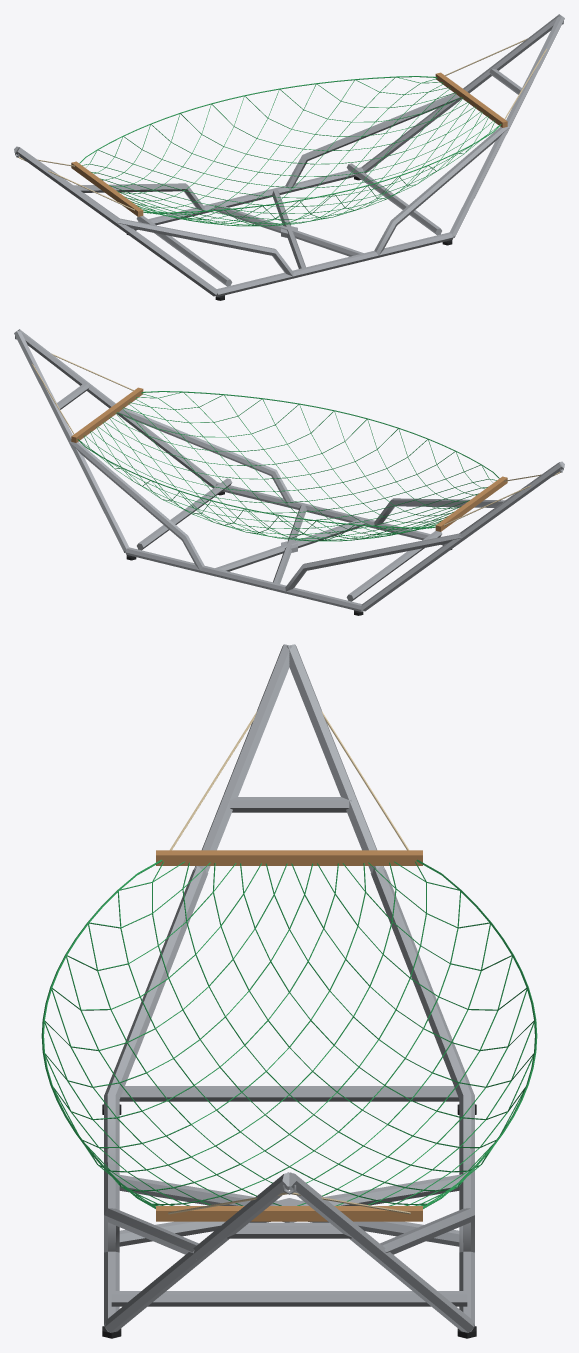
The model's file is vong_xep.mid.glb.
The picture shows the model from 3 angles, top to bottom: view 1: azimuth 30°, elevation 25°; view 2: azimuth 150°, elevation 25°; view 3: azimuth 270°, elevation 25°; orthographic projection. The views are drawn at different scales.
Parts seen in each view (by area): view 1: vong_xep, net_vong_xep; view 2: vong_xep, net_vong_xep; view 3: vong_xep, net_vong_xep.
Boxes of the visible parts, x1=… form: vong_xep: x1=14, y1=14, x2=564, y2=300; net_vong_xep: x1=18, y1=38, x2=546, y2=226; vong_xep: x1=14, y1=329, x2=564, y2=615; net_vong_xep: x1=32, y1=353, x2=560, y2=541; vong_xep: x1=102, y1=644, x2=476, y2=1338; net_vong_xep: x1=41, y1=711, x2=537, y2=1221.
Bounding box in the file's own units: 2.56 × 0.7007 × 1.
